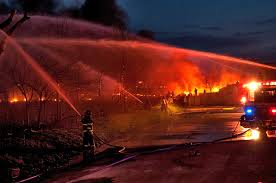fire: (161, 63, 251, 105), (3, 91, 162, 103)
